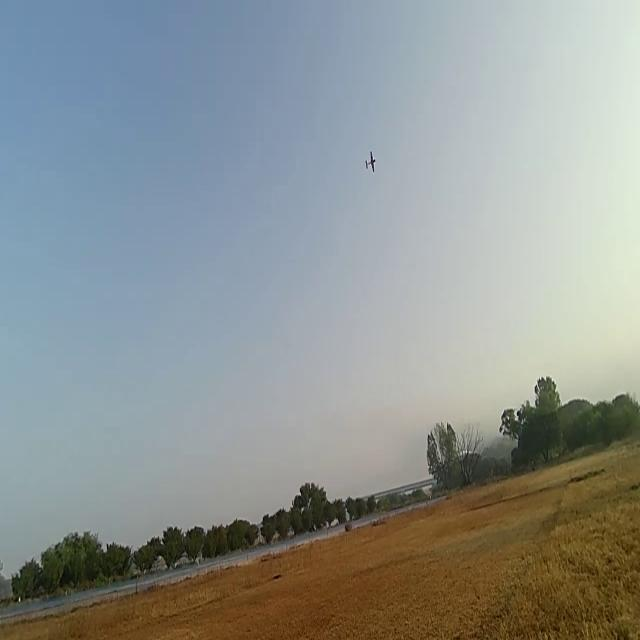iha: (362, 151, 377, 176)
